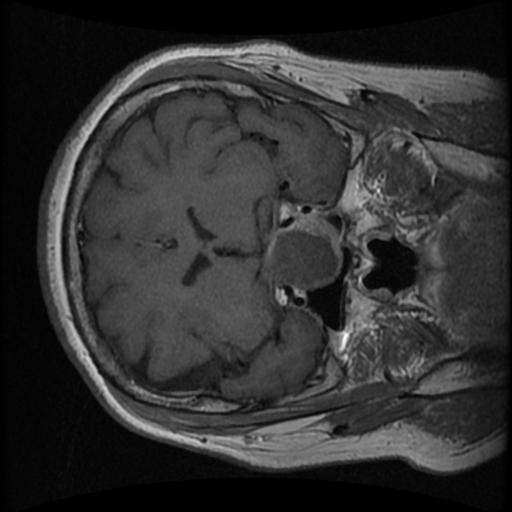pituitary tumour: (262, 202, 344, 292)
